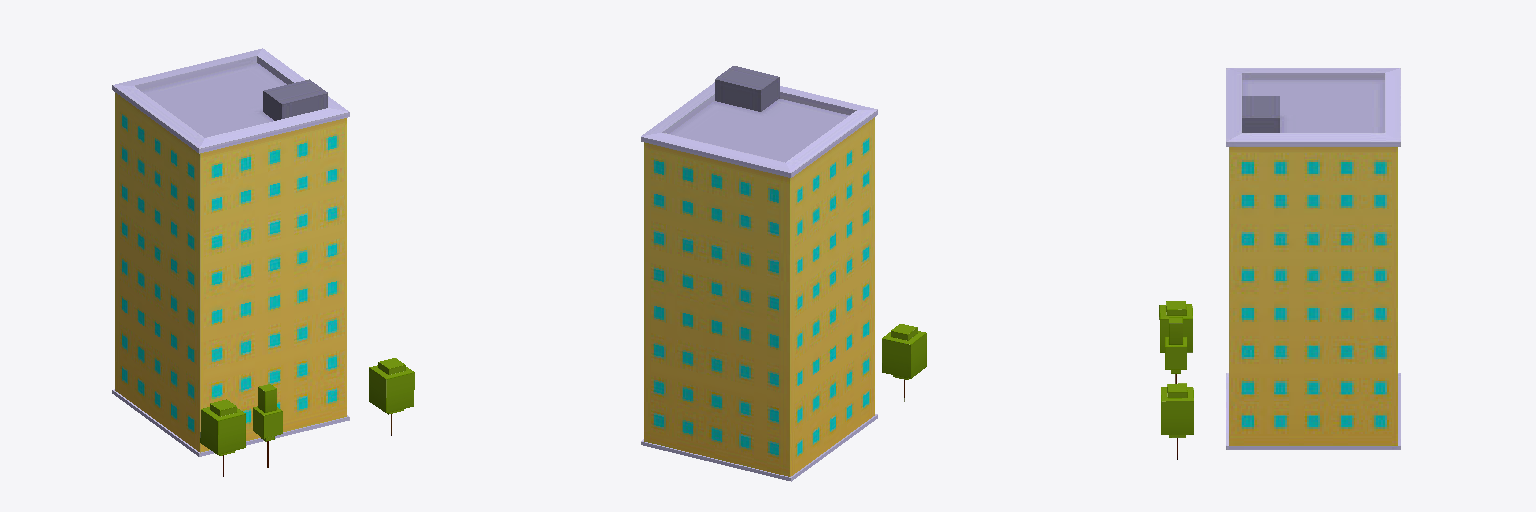
3 renders of one model, left to right at view 1: azimuth 30°, elevation 25°; view 2: azimuth 150°, elevation 25°; view 3: azimuth 270°, elevation 25°, orthographic.
Visible parts, largest first — view 1: living_yellow_2lvl_Mesh.4845, Tree_3_499_2.016_Mesh.269, Tree_3_499_2.015_Mesh.266, Tree_2_3_61.026_Mesh.268; view 2: living_yellow_2lvl_Mesh.4845, Tree_3_499_2.015_Mesh.266; view 3: living_yellow_2lvl_Mesh.4845, Tree_3_499_2.016_Mesh.269, Tree_2_3_61.026_Mesh.268, Tree_3_499_2.015_Mesh.266.
Part boxes in pixels (x1,y1,x2,y2): living_yellow_2lvl_Mesh.4845: (112,48,349,456); Tree_3_499_2.016_Mesh.269: (369,358,414,435); Tree_3_499_2.015_Mesh.266: (200,399,245,476); Tree_2_3_61.026_Mesh.268: (253,384,282,467); living_yellow_2lvl_Mesh.4845: (641,66,877,481); Tree_3_499_2.015_Mesh.266: (882,324,926,401); living_yellow_2lvl_Mesh.4845: (1226,68,1400,449); Tree_3_499_2.016_Mesh.269: (1161,383,1193,459); Tree_2_3_61.026_Mesh.268: (1165,317,1186,383); Tree_3_499_2.015_Mesh.266: (1159,301,1192,352).
Bounding box in the file's own units: 1.63 × 2.57 × 1.72.
Materials: 3 (3 with a texture image).